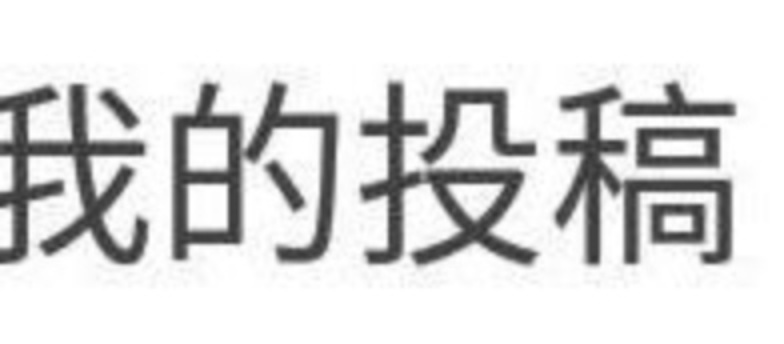TextView: (1, 1, 783, 343)
